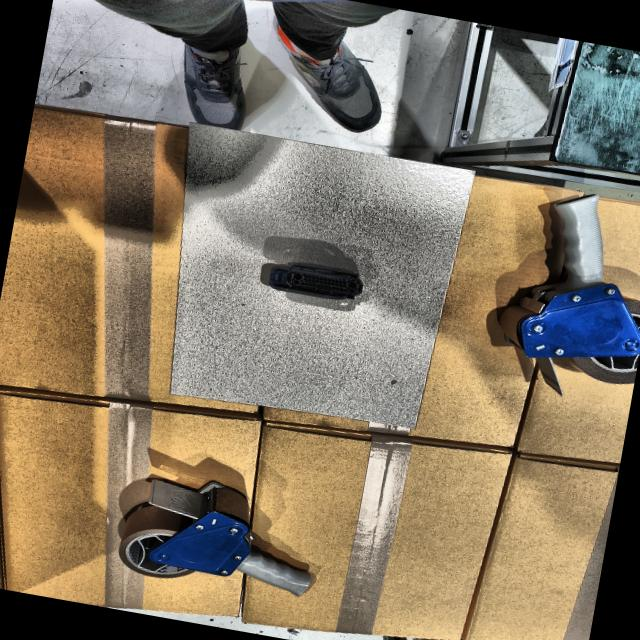P38: (267, 262, 361, 299)
